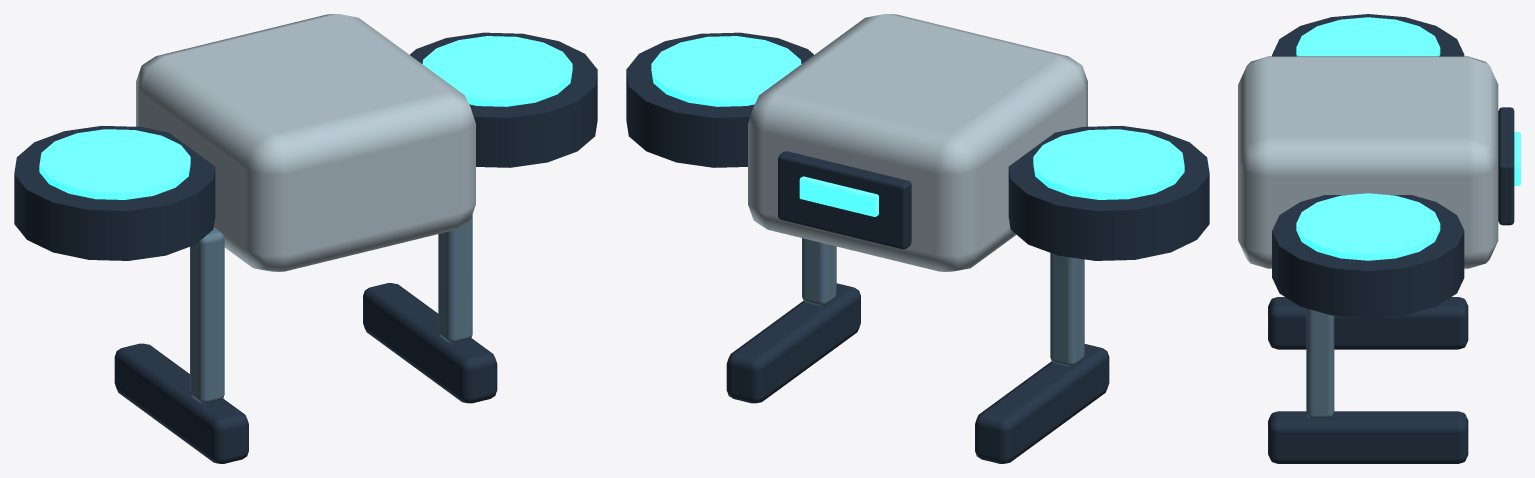
The model's file is survey-drone.glb.
3 views of the same model, side by side, from view 1: azimuth 30°, elevation 25°; view 2: azimuth 150°, elevation 25°; view 3: azimuth 270°, elevation 25° (orthographic). The views are drawn at different scales.
Parts seen in each view (by area): view 1: body, duct--0.52, duct-0.52, rotor--0.52, skid-0.52, skid--0.52, rotor-0.52, leg--0.52, leg-0.52; view 2: body, duct--0.52, duct-0.52, rotor--0.52, skid--0.52, skid-0.52, rotor-0.52, sensor, leg--0.52, leg-0.52, sensor-light; view 3: body, duct-0.52, skid-0.52, rotor-0.52, skid--0.52, rotor--0.52, leg-0.52, sensor, duct--0.52, sensor-light.
Boxes of the visible parts, <box> form: body: <box>136,14,475,271</box>; duct--0.52: <box>14,126,215,260</box>; duct-0.52: <box>410,32,597,167</box>; rotor--0.52: <box>39,129,190,199</box>; skid-0.52: <box>363,283,497,403</box>; skid--0.52: <box>114,343,248,463</box>; rotor-0.52: <box>422,36,572,106</box>; leg--0.52: <box>190,227,224,403</box>; leg-0.52: <box>438,214,472,342</box>; body: <box>748,14,1087,271</box>; duct--0.52: <box>1008,126,1209,260</box>; duct-0.52: <box>626,32,813,167</box>; rotor--0.52: <box>1033,129,1184,199</box>; skid--0.52: <box>975,344,1109,463</box>; skid-0.52: <box>726,283,860,403</box>; rotor-0.52: <box>651,36,801,106</box>; sensor: <box>778,151,911,249</box>; leg--0.52: <box>1050,253,1084,366</box>; leg-0.52: <box>802,238,836,305</box>; sensor-light: <box>799,176,878,216</box>; body: <box>1238,56,1498,268</box>; duct-0.52: <box>1272,195,1464,318</box>; skid-0.52: <box>1268,411,1468,463</box>; rotor-0.52: <box>1296,193,1440,260</box>; skid--0.52: <box>1268,297,1468,349</box>; rotor--0.52: <box>1296,17,1440,56</box>; leg-0.52: <box>1306,308,1334,418</box>; sensor: <box>1498,107,1514,225</box>; duct--0.52: <box>1272,14,1464,56</box>; sensor-light: <box>1514,132,1520,185</box>.
Bounding box in the file's own units: 1.52 × 0.84 × 0.706.
